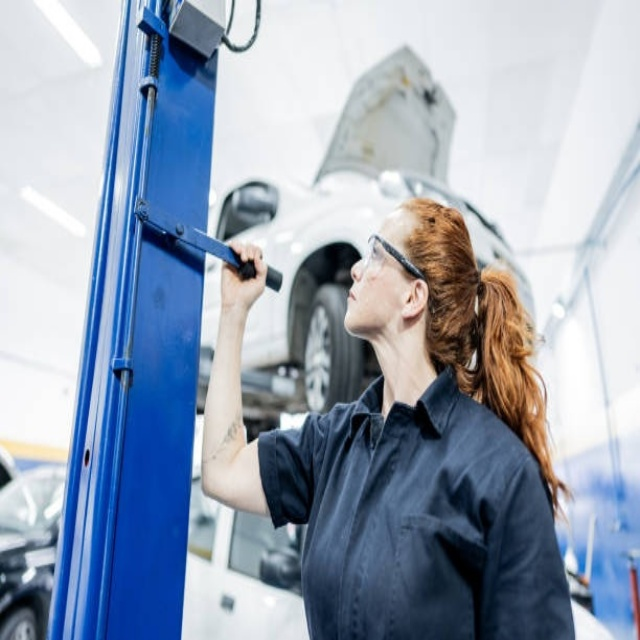Gafas: (366, 234, 427, 284)
Sin_guantes: (214, 236, 271, 305)
Sin_mascara: (335, 264, 361, 329)
